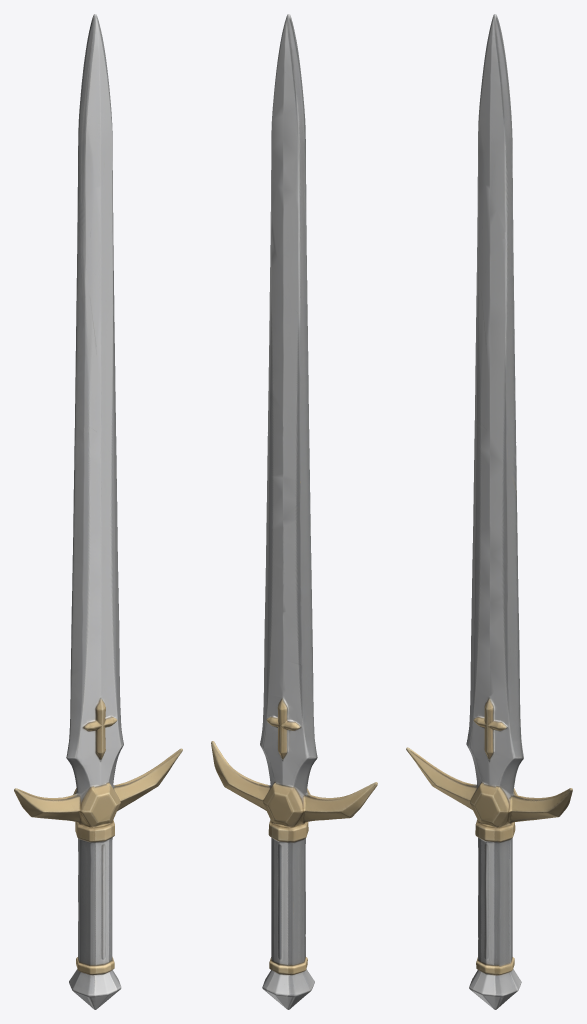
File: Meshy_AI_paladin_holy_sword_20261105_image-to-3d-texture.fbx
3 views of the same model, side by side, from view 1: azimuth 30°, elevation 25°; view 2: azimuth 150°, elevation 25°; view 3: azimuth 330°, elevation 25° (orthographic).
Parts seen in each view (by area): view 1: Mesh_0; view 2: Mesh_0; view 3: Mesh_0.
Boxes of the visible parts, x1,y1,x2,y2 form: Mesh_0: [14, 14, 182, 1009]; Mesh_0: [211, 14, 377, 1009]; Mesh_0: [406, 14, 572, 1009].
Bounding box in the file's own units: 33.46 × 190 × 9.03.
Materials: 1 (1 with a texture image).
